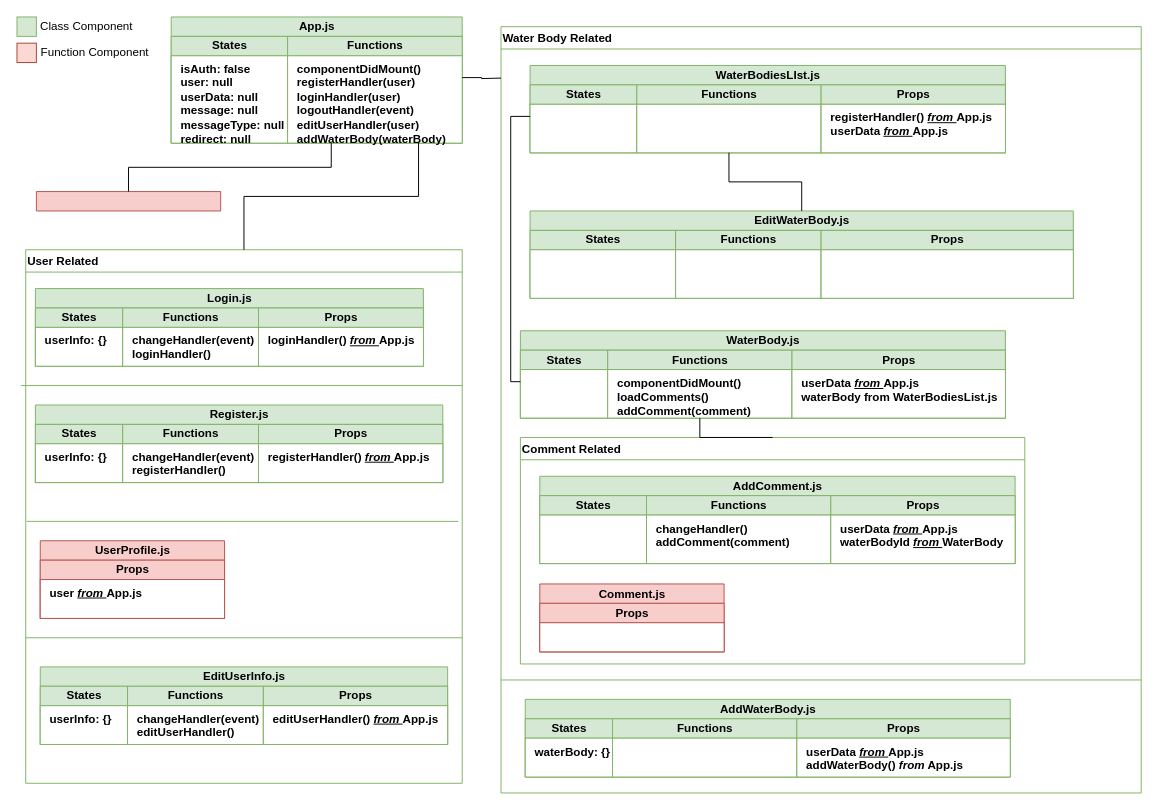
Some shapes in this 1159 by 810 pixel diagram are drawn without their labels. The shapes that lost their labels are listed below. From the top down, each one's centre as x and y in pixels, then its label:
At point 583,128: "waterBodies: [] editId: null".
At point 728,128: "componentDidMount() loadWaterBodiesList() editWaterBody(waterBody)".
At point 128,201: "Home.js".
At point 602,273: "waterBody: waterBody".
At point 748,273: "changeHandler() editWaterBodyHandler()".
At point 946,273: "userData from App.js editwaterBody() from WaterBodiesList.js".
At point 563,393: "comments: []".
At point 593,539: "comment: {}".
At point 631,637: "comment from WaterBody.js".
At point 704,757: "changeHandler() addWaterBodyHandler()".
